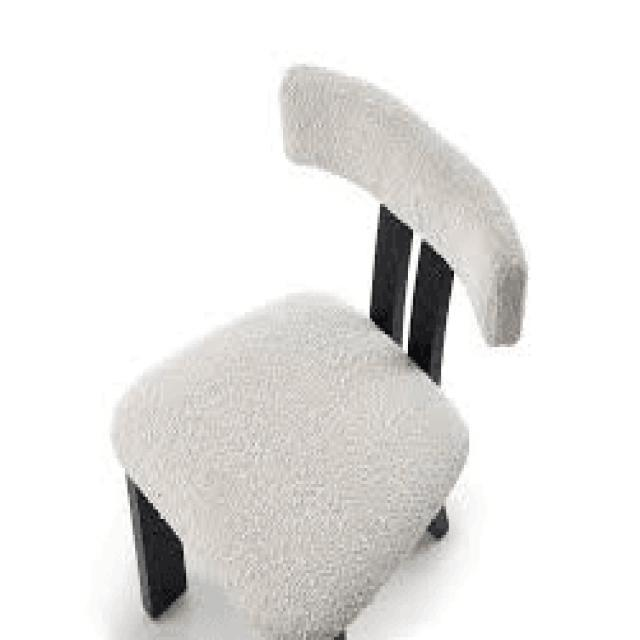chair: (103, 57, 538, 640), (123, 74, 516, 468)
